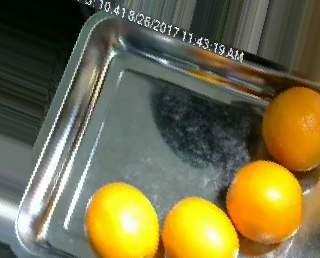Orange: (224, 159, 303, 244), (83, 180, 159, 258), (262, 85, 320, 170), (162, 196, 239, 258)
